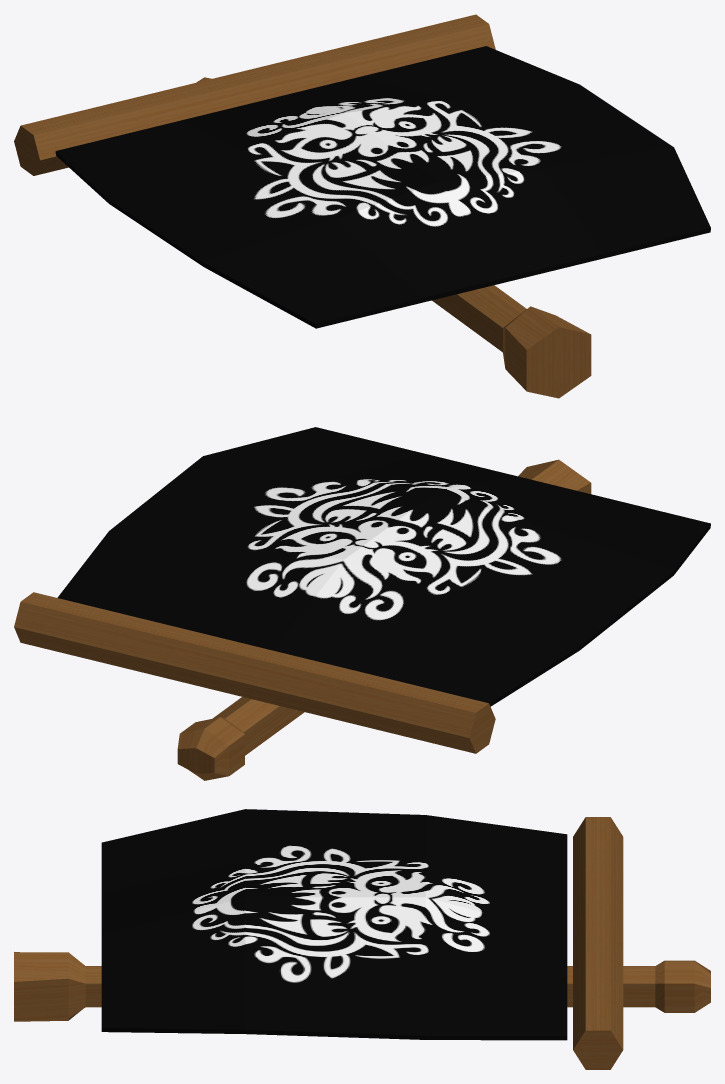
Rendered from sail_a_2.fbx.
The picture shows the model from 3 angles, top to bottom: view 1: azimuth 30°, elevation 25°; view 2: azimuth 150°, elevation 25°; view 3: azimuth 270°, elevation 25°; orthographic projection. The views are drawn at different scales.
Visible parts, largest first — view 1: Cube.052; view 2: Cube.052; view 3: Cube.052.
Boxes of the visible parts, box(x1,y1,x2,y2) form: Cube.052: box(14, 14, 710, 398); Cube.052: box(14, 427, 710, 780); Cube.052: box(14, 809, 710, 1069).
Size of the model in its own units: 73.29 by 19.1 by 97.77.
